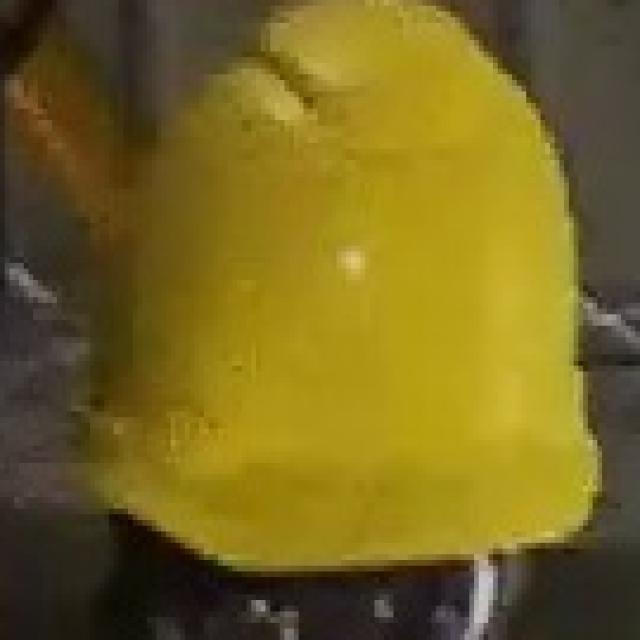yellow helmet: (111, 1, 619, 581)
